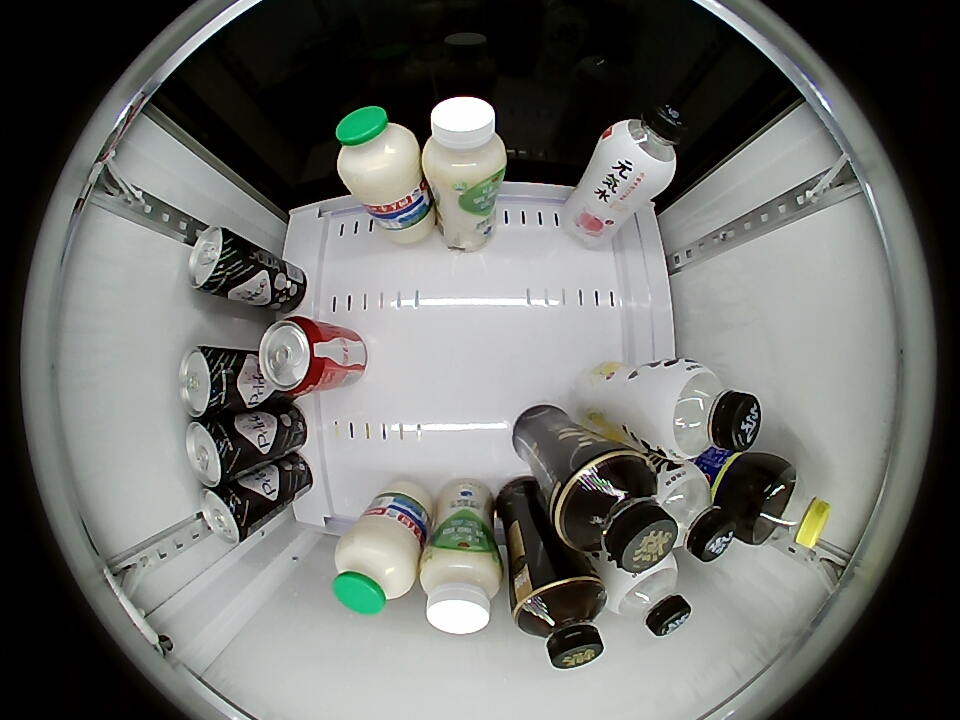baishikele: (750, 464, 832, 550)
kele: (258, 316, 327, 395)
liziyuan: (335, 105, 422, 206), (332, 517, 420, 616)
qingdaowangzi-1: (178, 345, 242, 419), (185, 418, 246, 486), (187, 226, 243, 297), (198, 485, 256, 544)
rancha-1: (556, 452, 679, 572), (513, 576, 607, 670)
yousuanru: (422, 96, 507, 194), (419, 543, 502, 635)
yuanqishui: (649, 360, 762, 460), (597, 100, 687, 193), (653, 461, 735, 562), (603, 554, 692, 636)
